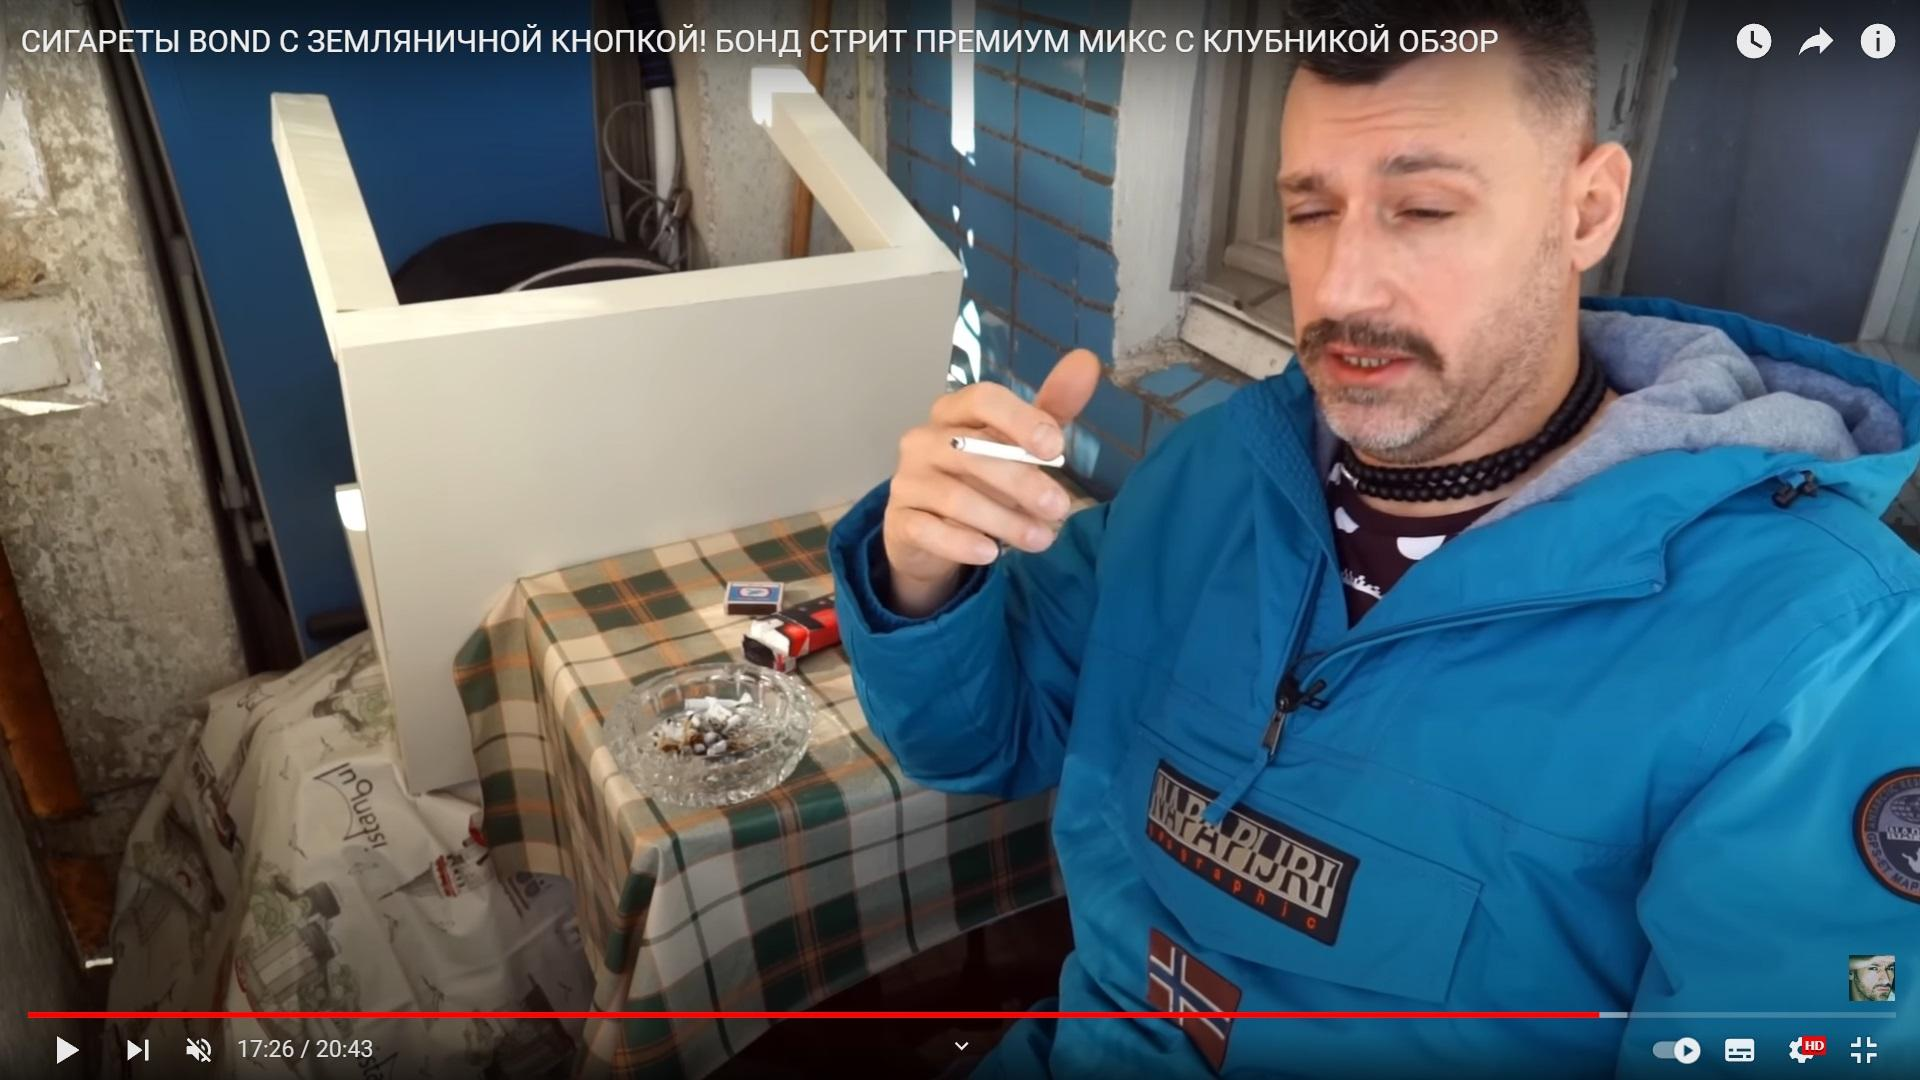cigarette: (951, 436, 1065, 467)
